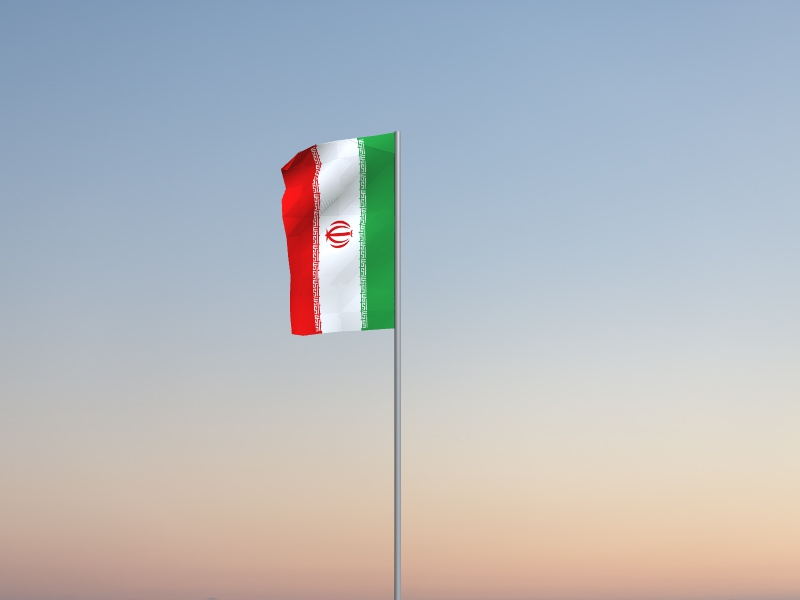ir: (280, 133, 395, 338)
